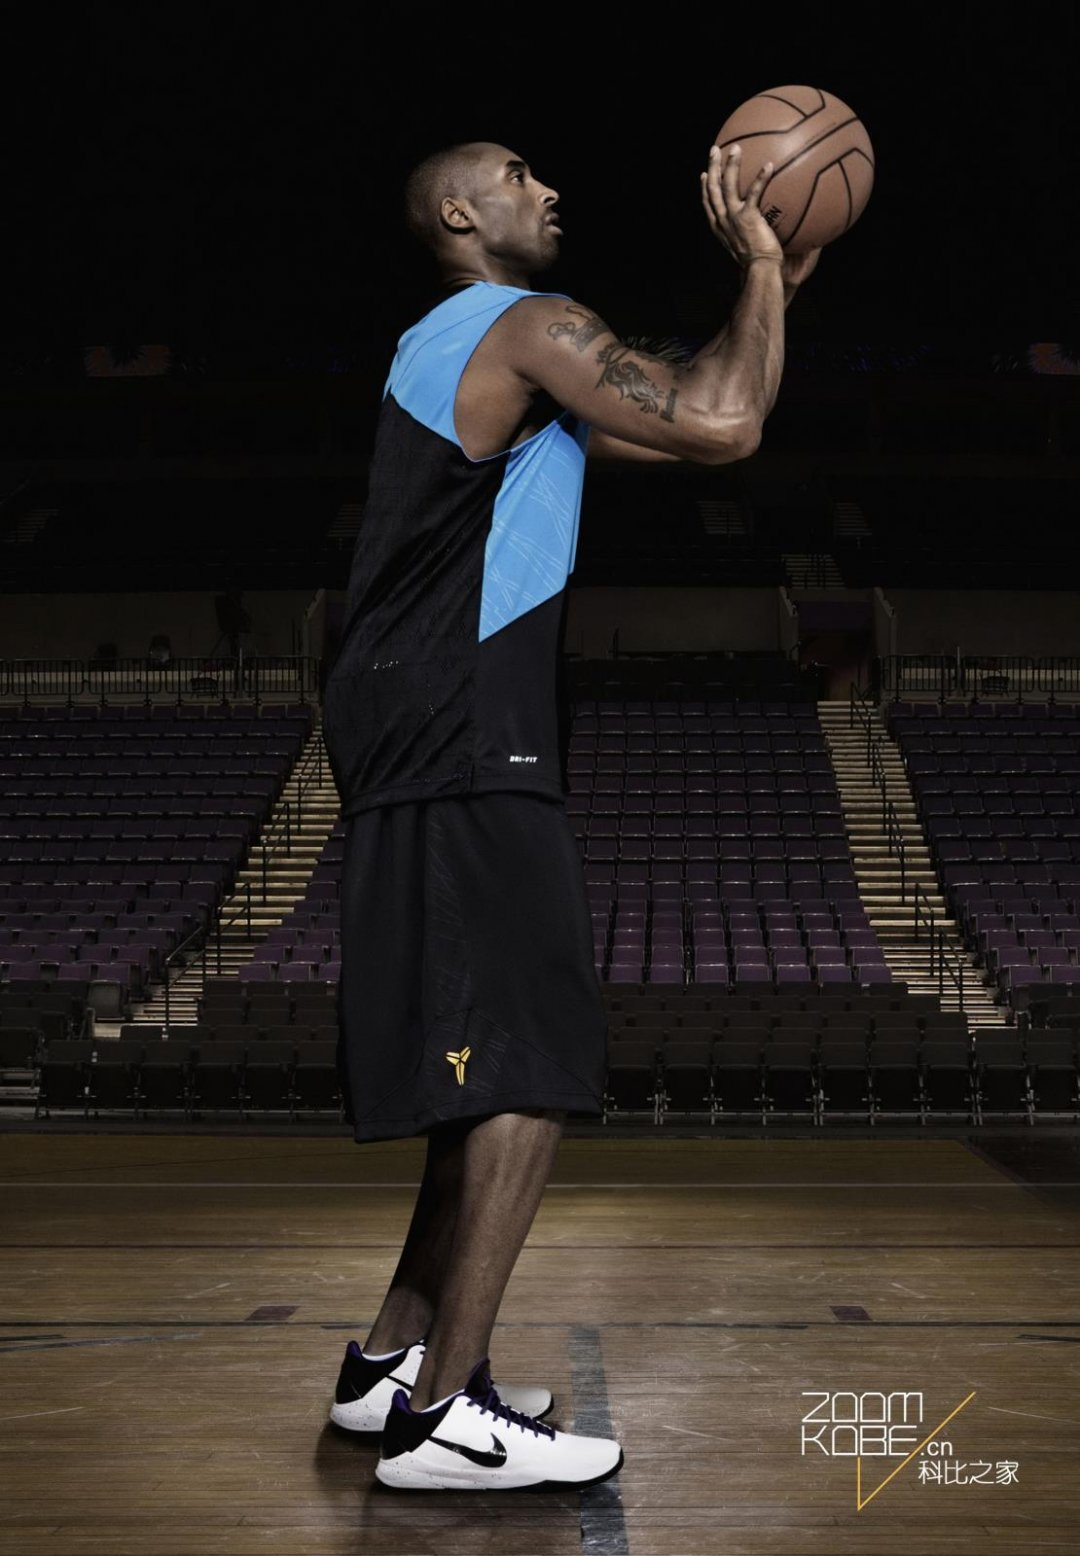ball: (713, 82, 874, 257)
